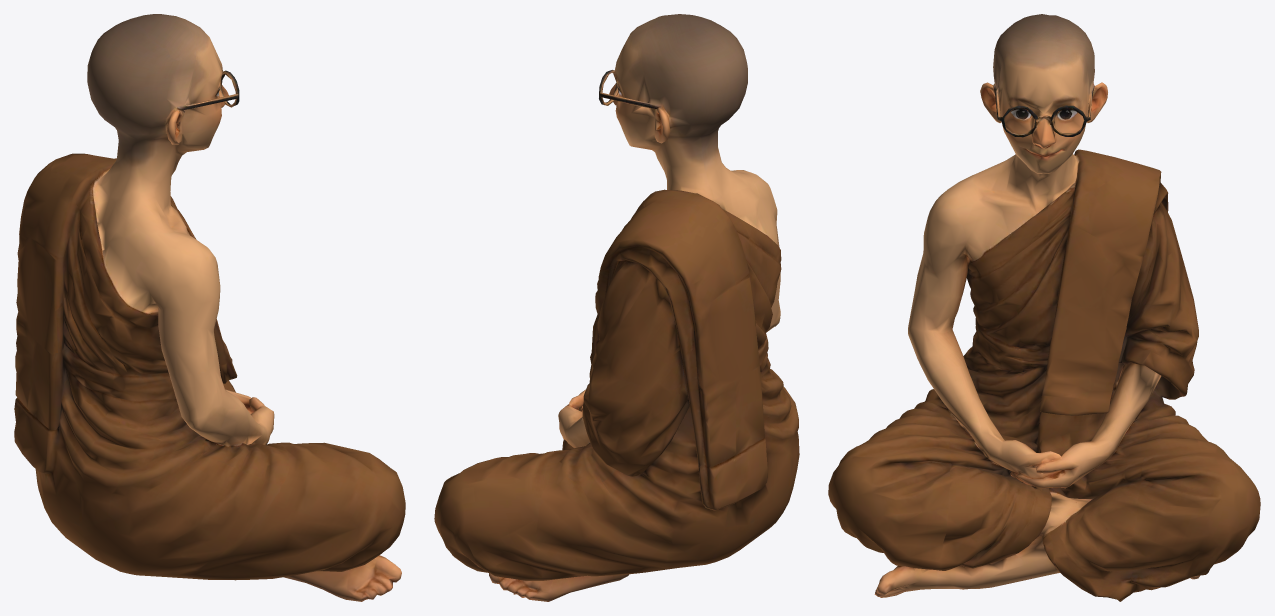
Rendered from monk-young.glb.
The picture shows the model from 3 angles, left to right: view 1: azimuth 30°, elevation 25°; view 2: azimuth 150°, elevation 25°; view 3: azimuth 270°, elevation 25°; orthographic projection. The views are drawn at different scales.
Visible parts, largest first — view 1: tripo_node_3c5a8d90-2c27-4237-a48b-5604a28967dc; view 2: tripo_node_3c5a8d90-2c27-4237-a48b-5604a28967dc; view 3: tripo_node_3c5a8d90-2c27-4237-a48b-5604a28967dc.
Part boxes in pixels (x1=…): tripo_node_3c5a8d90-2c27-4237-a48b-5604a28967dc: x1=14, y1=14, x2=405, y2=601; tripo_node_3c5a8d90-2c27-4237-a48b-5604a28967dc: x1=434, y1=14, x2=799, y2=601; tripo_node_3c5a8d90-2c27-4237-a48b-5604a28967dc: x1=828, y1=14, x2=1260, y2=601.
Size of the model in its own units: 0.4883 by 0.9996 by 0.7534.
Materials: 1 (1 with a texture image).
